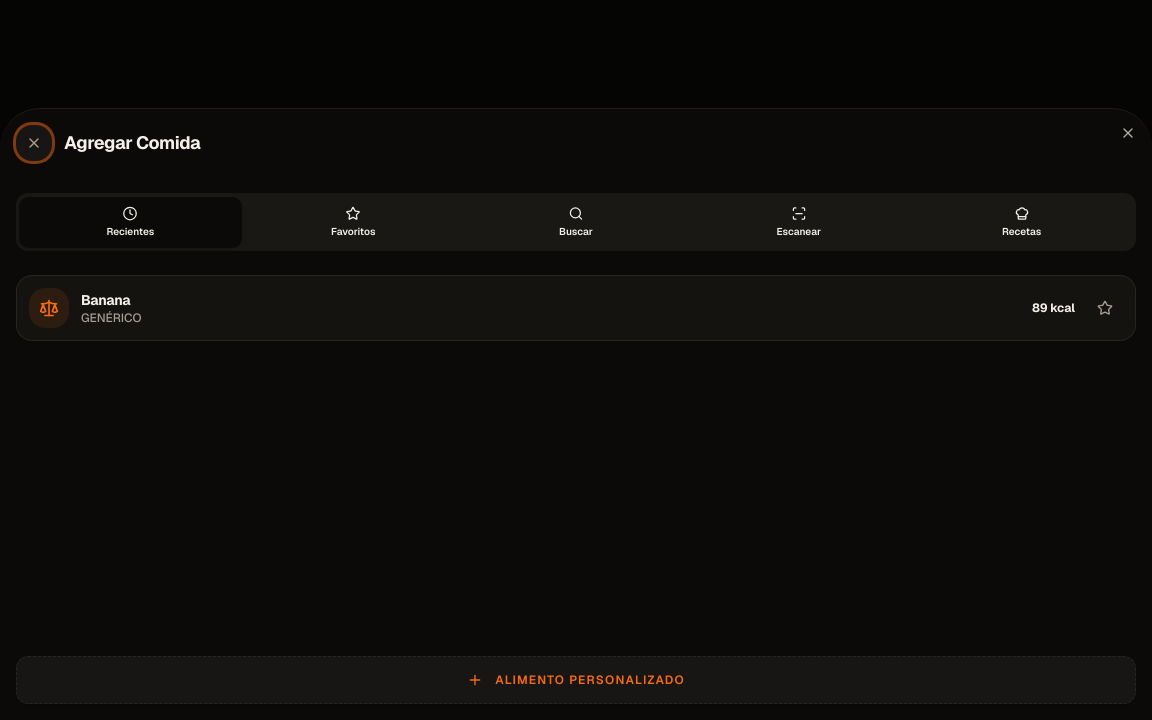
Test: AddFoodSheet browse tabs › goes to the amount step when a recent food row is tapped
Click the heading "Banana" at {"x": 106, "y": 300}, box [81,291,130,309]
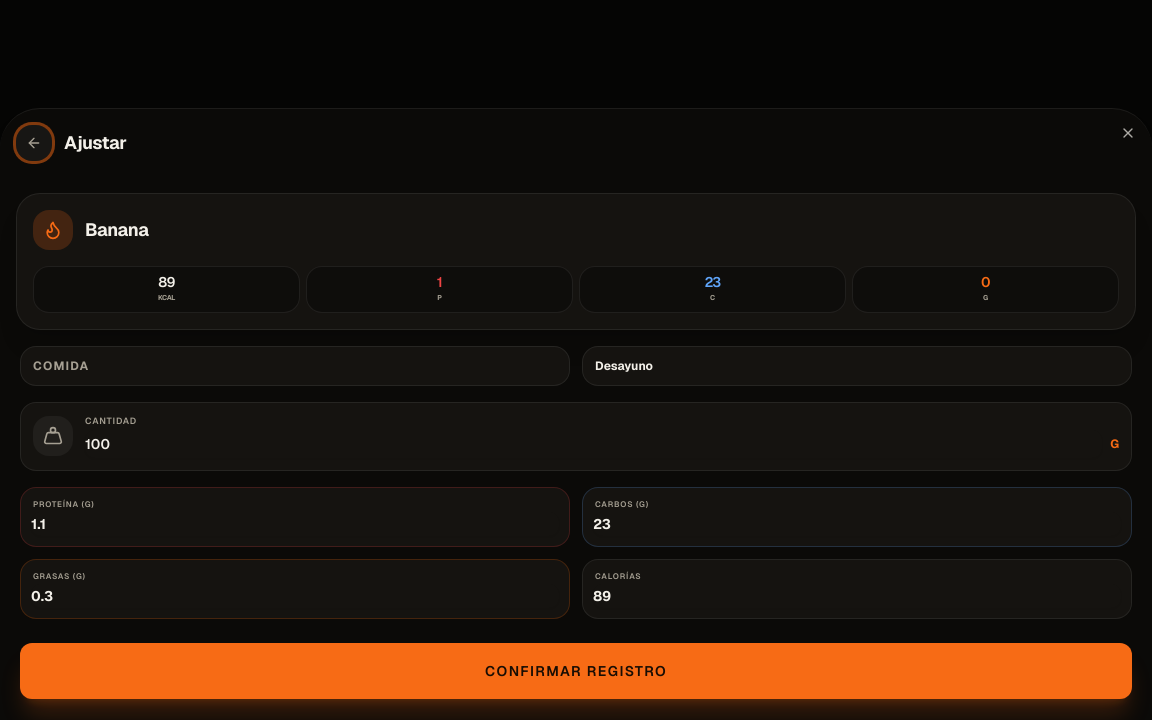
Result: the text "Cantidad" is shown at [85,414,137,426]
